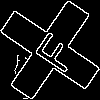F: (25, 25, 80, 76)
